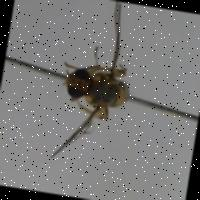Oriental-fruit-fly: (31, 0, 148, 175)
